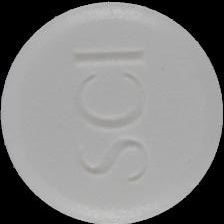44946-1010: (0, 0, 224, 224)
